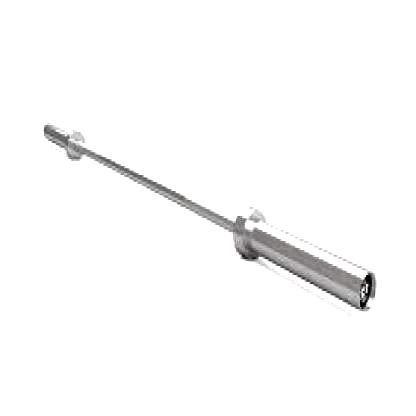Barbell: (347, 263, 382, 321)
